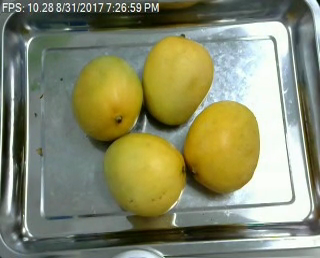Mango: (102, 132, 186, 219), (182, 101, 258, 191), (142, 34, 216, 126), (75, 56, 142, 141)
